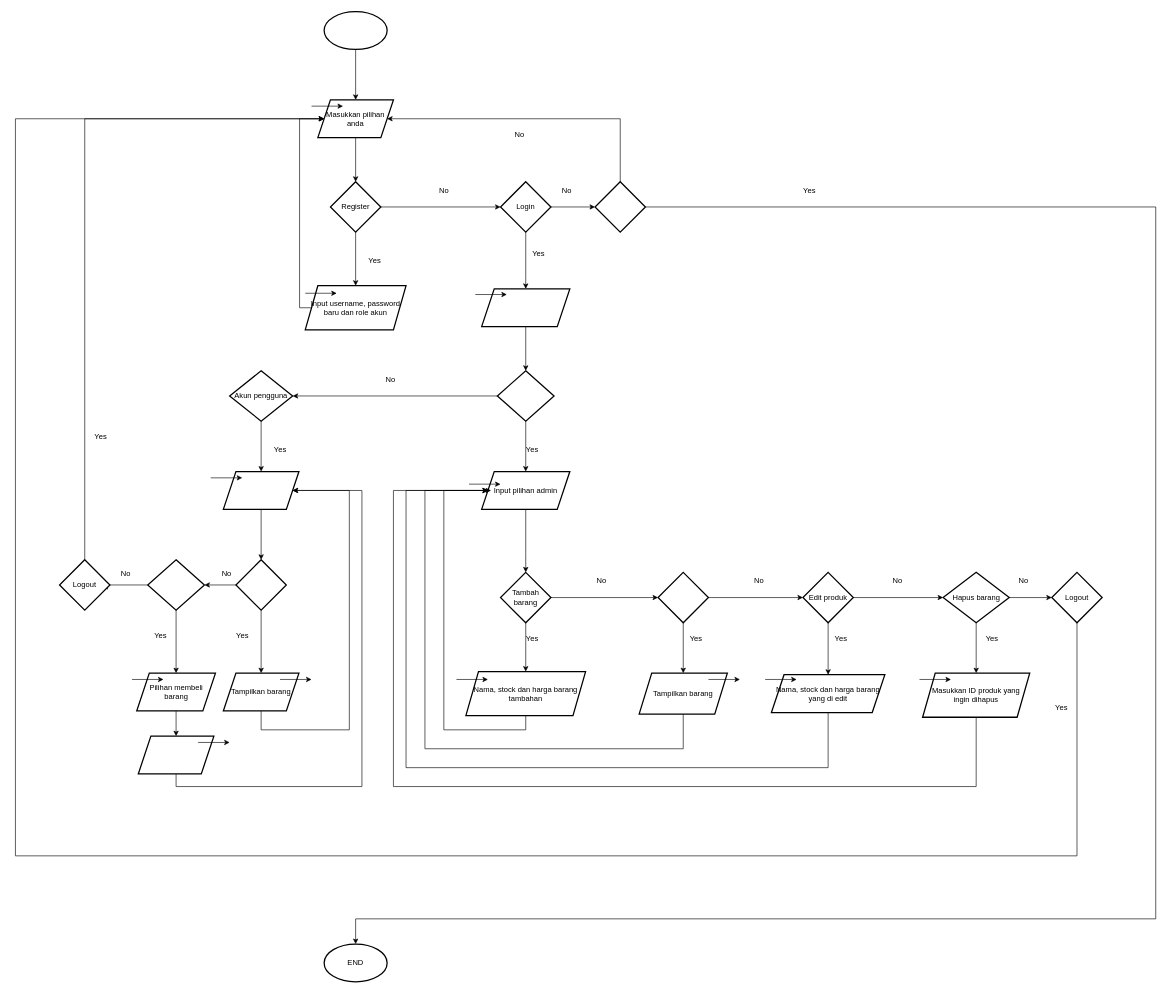
The diagram is 1172 pixels wide and 993 high, and some of its shapes have lost their labels. Each missing label, with the centre of its shape:
"Akun admin" belongs at (525,395).
"barang yang dibeli" belongs at (175,754).
"Beli barang" belongs at (176,584).
"Input username dan password" belongs at (525,307).
"Keluar" belongs at (620,206).
"Lihat menu" belongs at (261,584).
"Lihat produk" belongs at (683,597).
"Pilihan pengguna" belongs at (260,490).
"START" belongs at (355,30).
